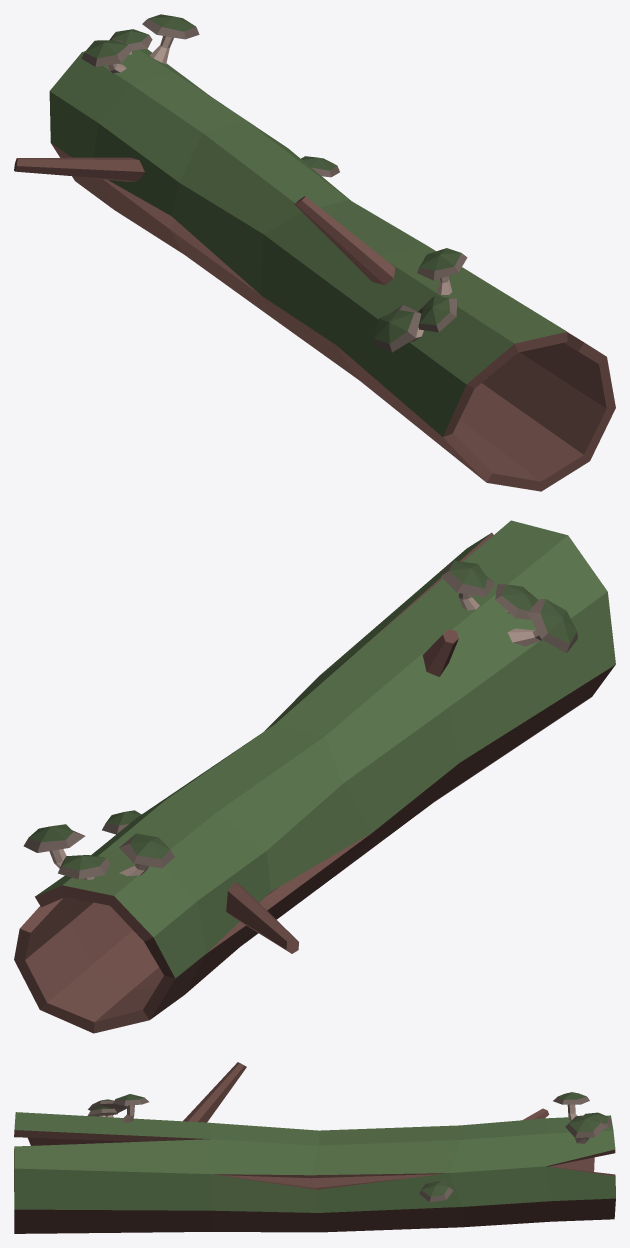
The model's file is WoodLog_Moss-transformed.glb.
3 views of the same model, one above another, from view 1: azimuth 30°, elevation 25°; view 2: azimuth 150°, elevation 25°; view 3: azimuth 270°, elevation 25° (orthographic). The views are drawn at different scales.
Parts seen in each view (by area): view 1: WoodLog_Moss; view 2: WoodLog_Moss; view 3: WoodLog_Moss.
Boxes of the visible parts, left/top/right/bottom form: WoodLog_Moss: left=14, top=14, right=615, bottom=491; WoodLog_Moss: left=14, top=520, right=615, bottom=1033; WoodLog_Moss: left=14, top=1062, right=615, bottom=1233.
Size of the model in its own units: 0.8967 by 0.6883 by 2.67.
